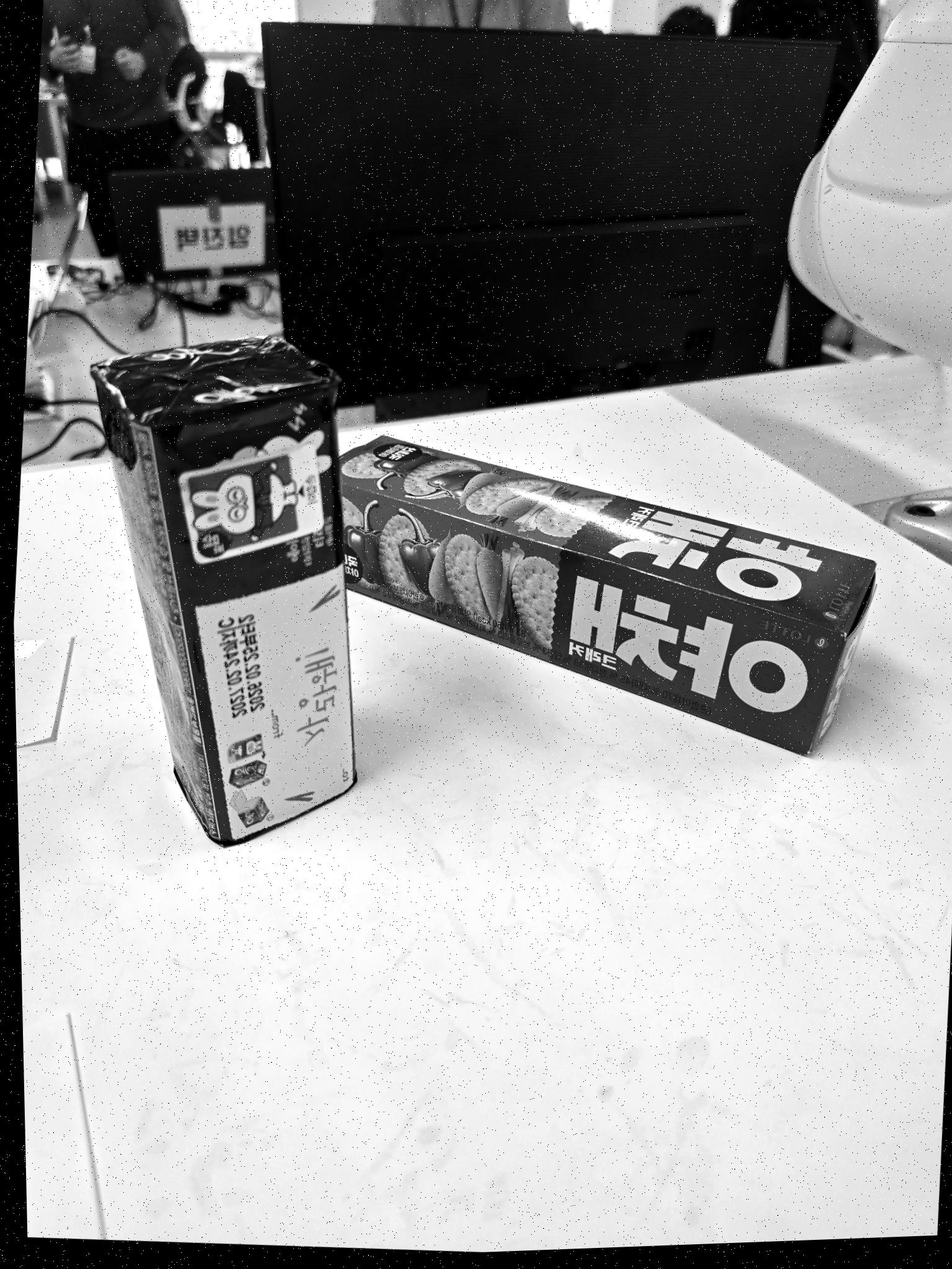cracker_ace: (94, 341, 356, 845)
cracker_vege: (340, 437, 875, 754)
